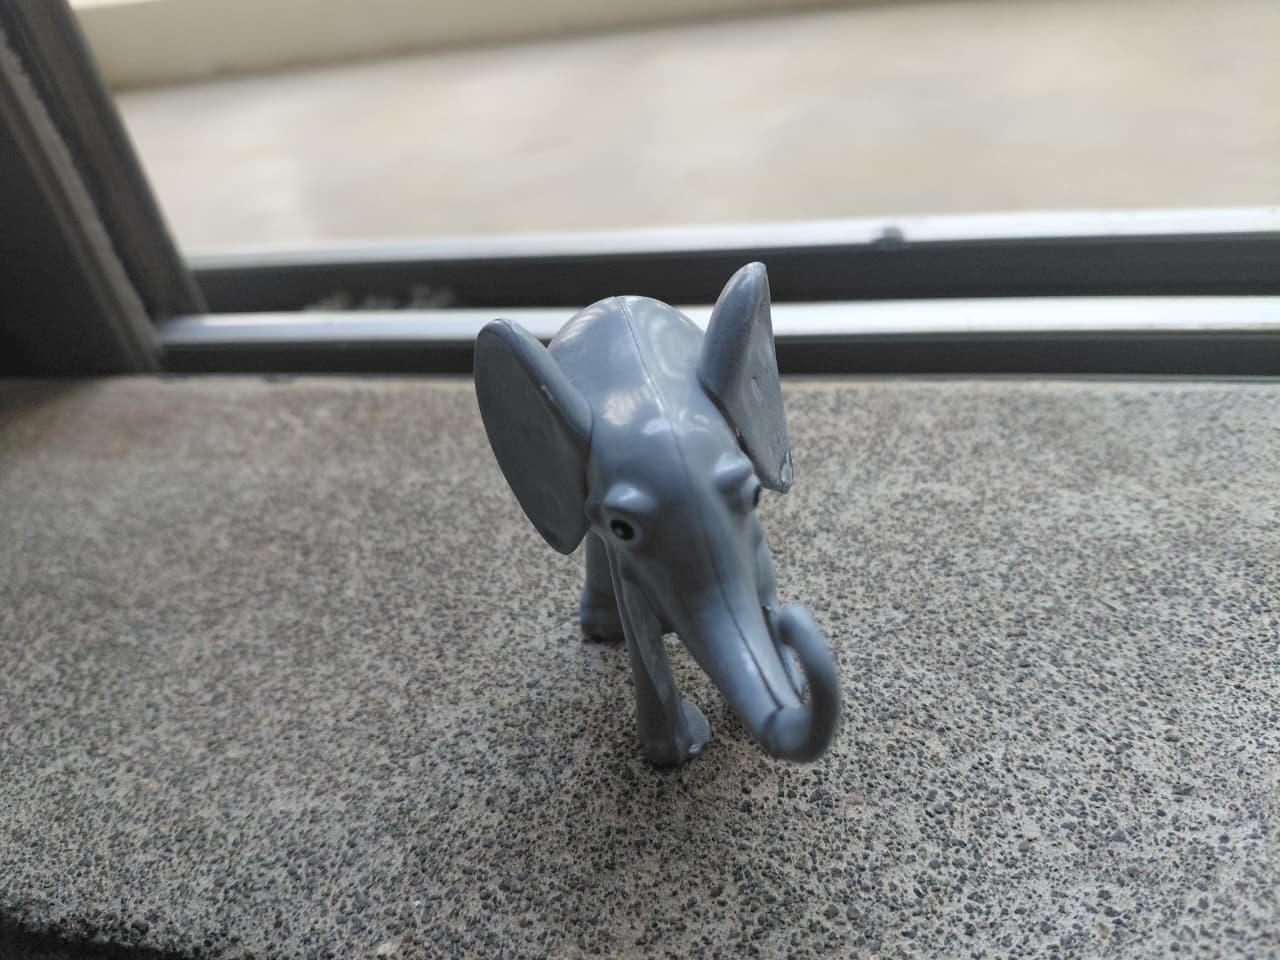elephant: (440, 260, 1032, 823)
